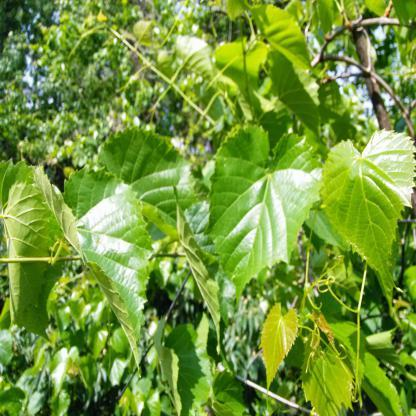grape leaf black rot: (31, 164, 146, 374), (207, 110, 321, 306), (322, 128, 416, 284), (1, 149, 64, 346), (153, 320, 211, 416), (255, 300, 306, 392), (303, 334, 355, 416)
